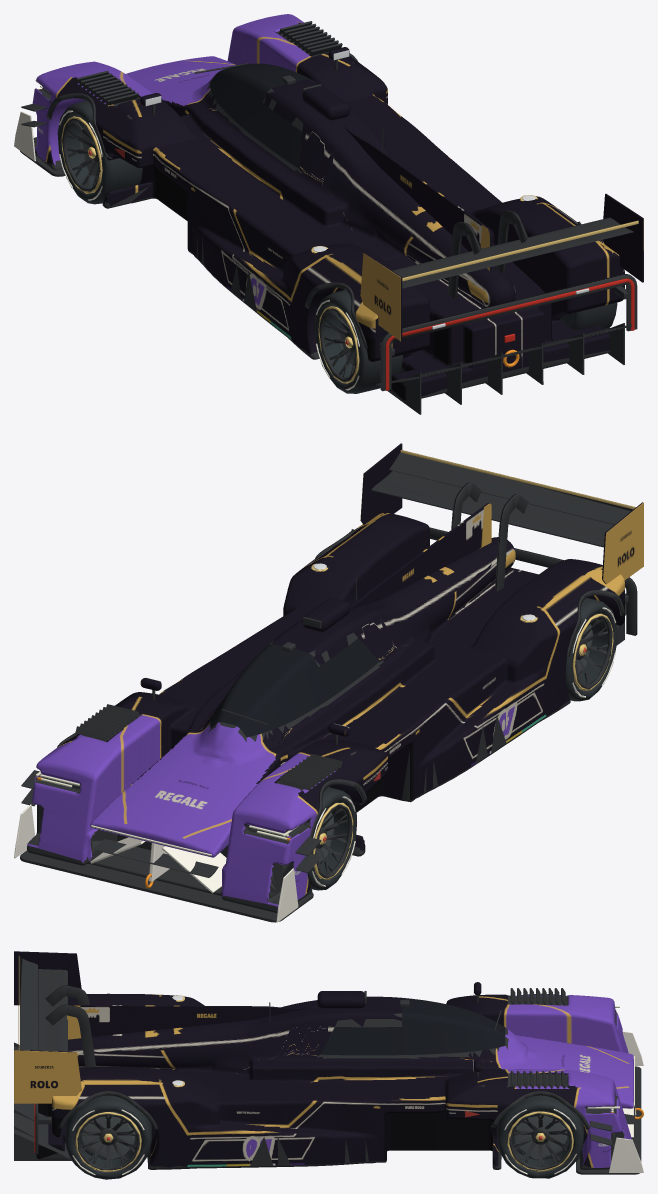
The model's file is regale_lod2.fbx.
3 renders of one model, top to bottom at view 1: azimuth 30°, elevation 25°; view 2: azimuth 150°, elevation 25°; view 3: azimuth 270°, elevation 25°, orthographic. The views are drawn at different scales.
Visible parts, largest first — view 1: Body, Wheel_FL_Mesh, Wheel_RL_Mesh, Wheel_RR_Mesh; view 2: Body, Wheel_RL_Mesh, Wheel_FL_Mesh; view 3: Body, Wheel_RR_Mesh, Wheel_FR_Mesh.
Part boxes in pixels (x1,y1,x2,y2): Body: [14, 14, 643, 414]; Wheel_FL_Mesh: [57, 101, 142, 204]; Wheel_RL_Mesh: [314, 290, 402, 393]; Wheel_RR_Mesh: [560, 302, 617, 329]; Body: [14, 443, 643, 922]; Wheel_RL_Mesh: [565, 597, 616, 701]; Wheel_FL_Mesh: [307, 787, 356, 890]; Body: [14, 951, 643, 1174]; Wheel_RR_Mesh: [65, 1095, 151, 1179]; Wheel_FR_Mesh: [497, 1095, 583, 1178].
Size of the model in its own units: 220 by 119 by 500.
14 materials, 1 textured.
